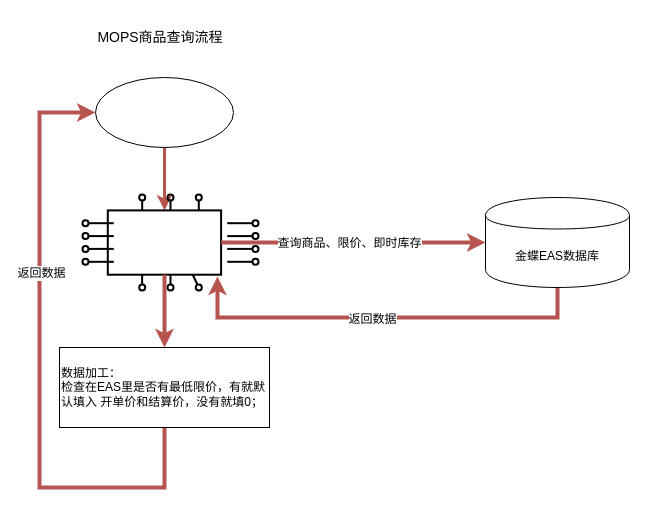
The diagram is 647 pixels wide and 514 high, and some of its shapes have lost their labels. The centre of each missing label's shape, as x and y in pixels:
"MOPS后端" belongs at (164,242).
"用户发起商品查询请求" belongs at (164,112).
